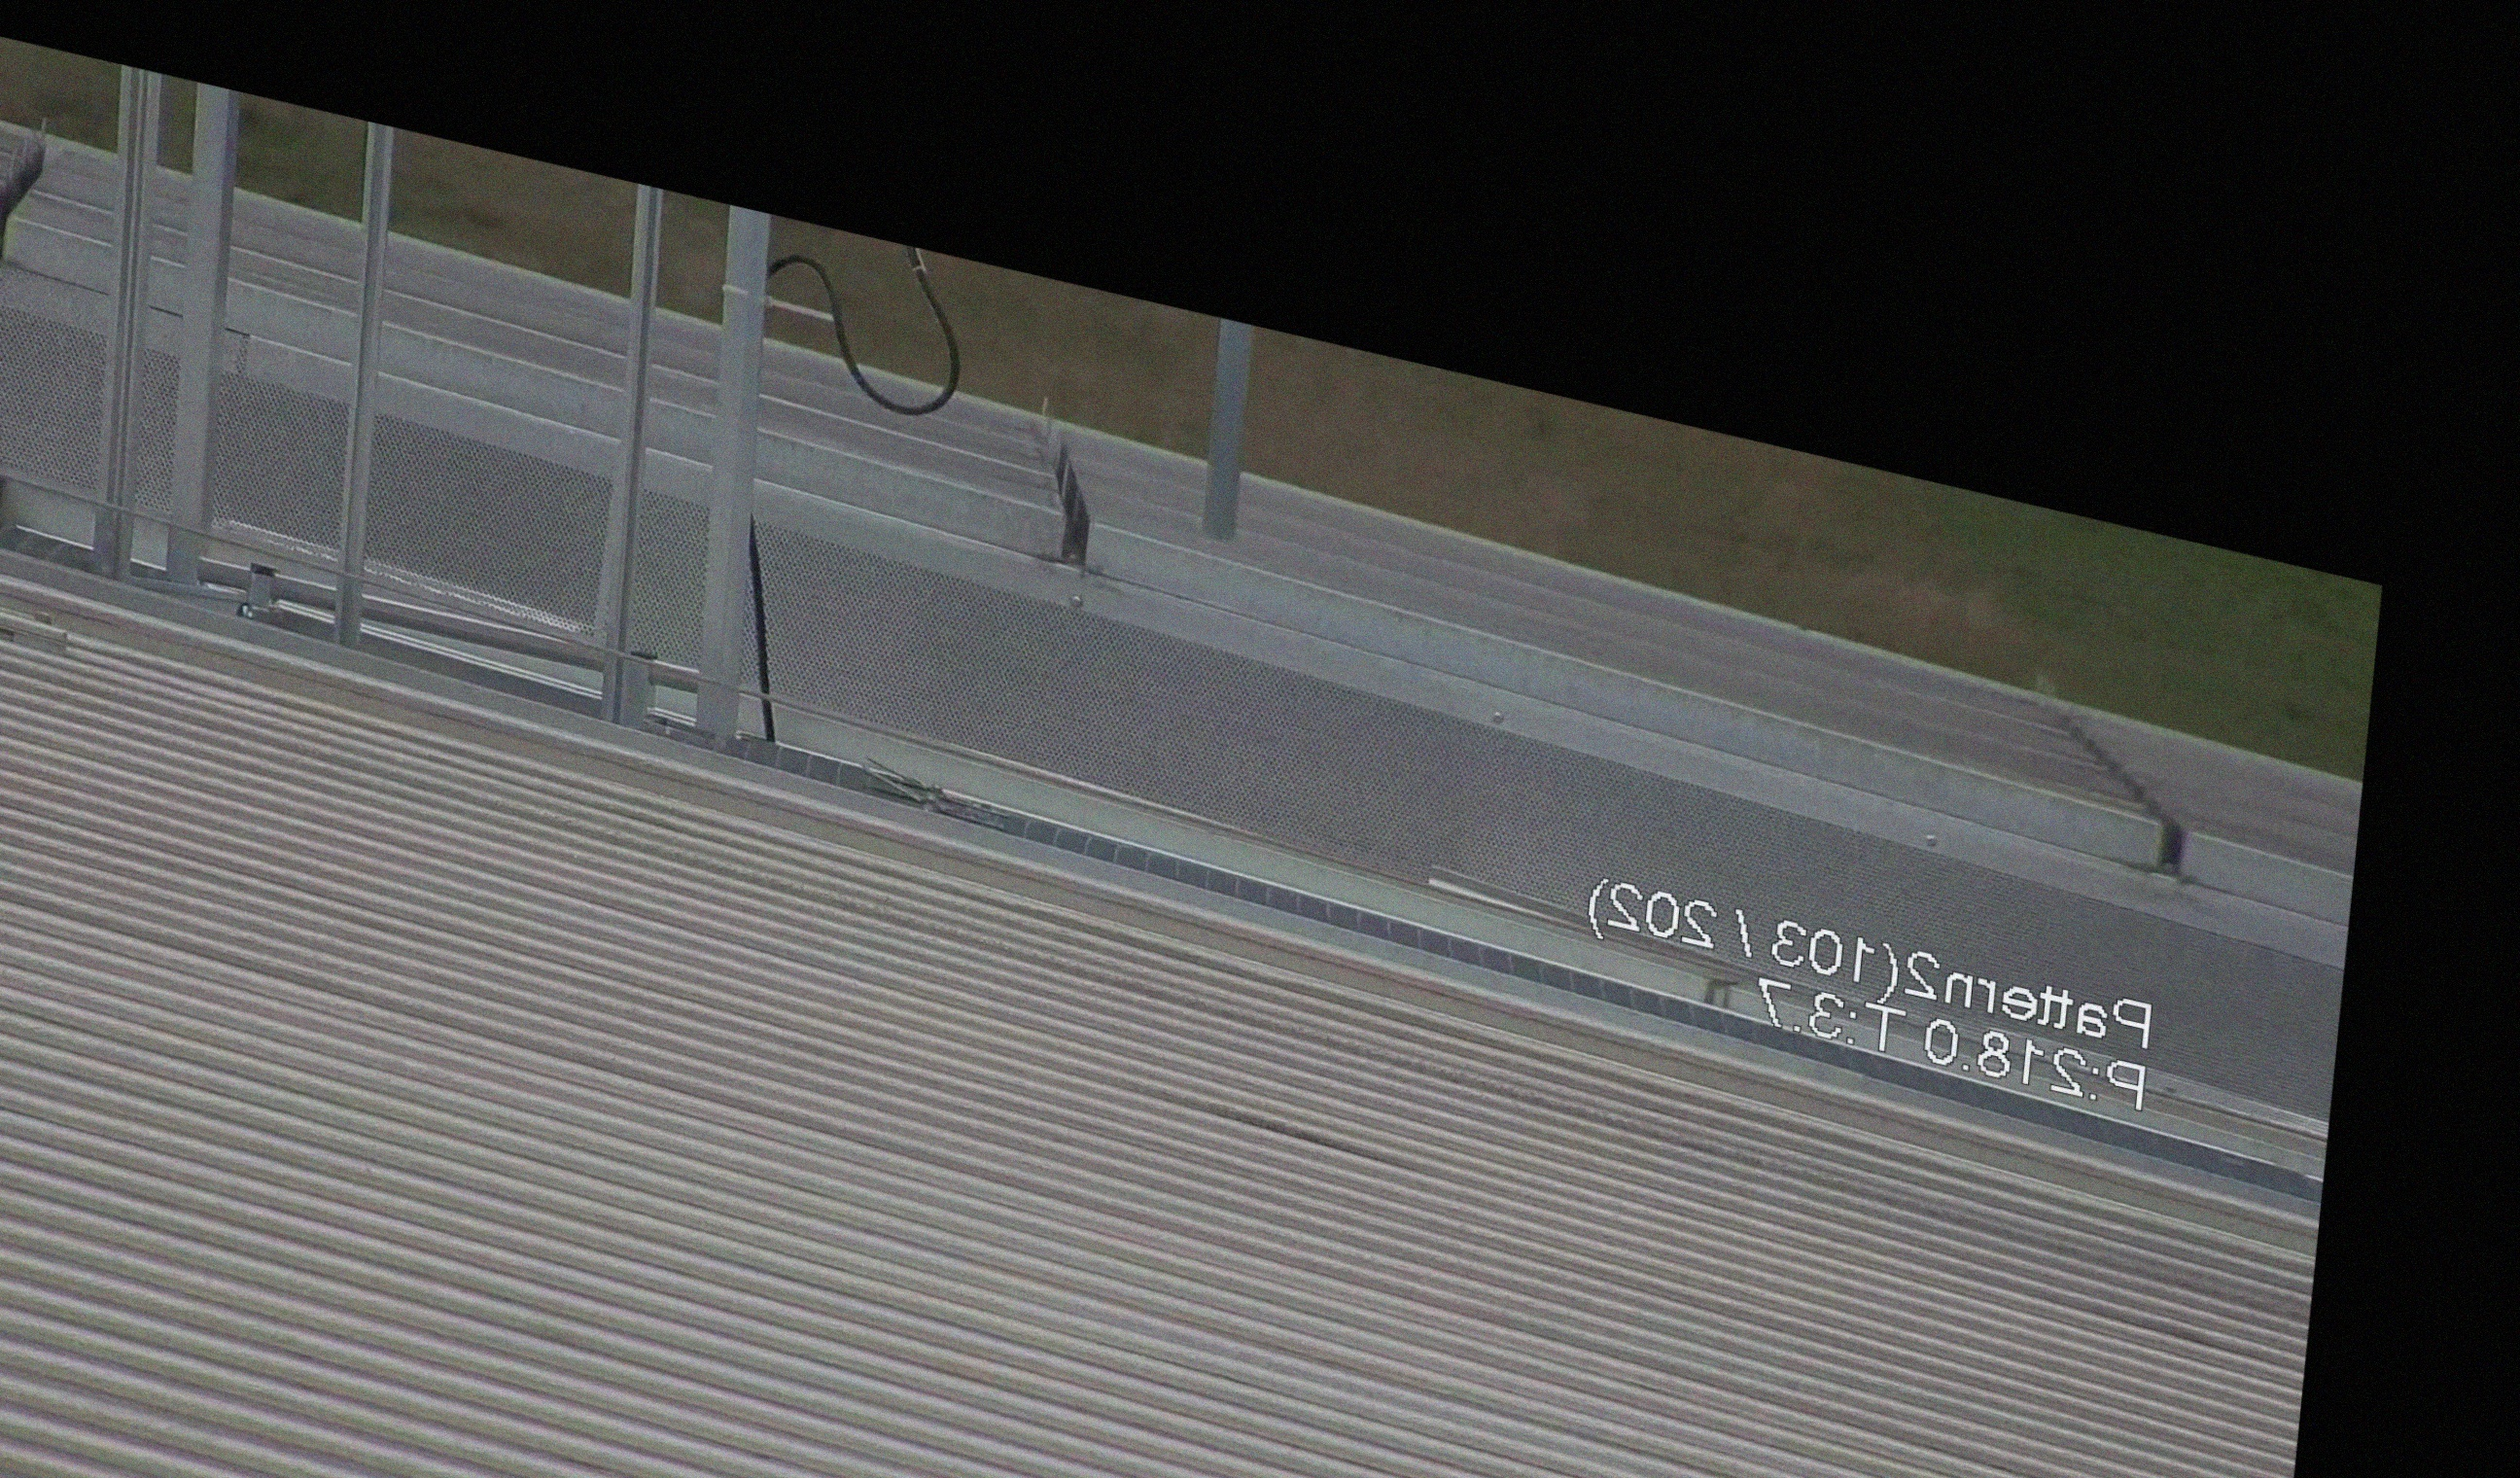Other: (0, 104, 70, 280)
